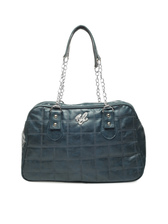bag: (19, 24, 146, 185)
